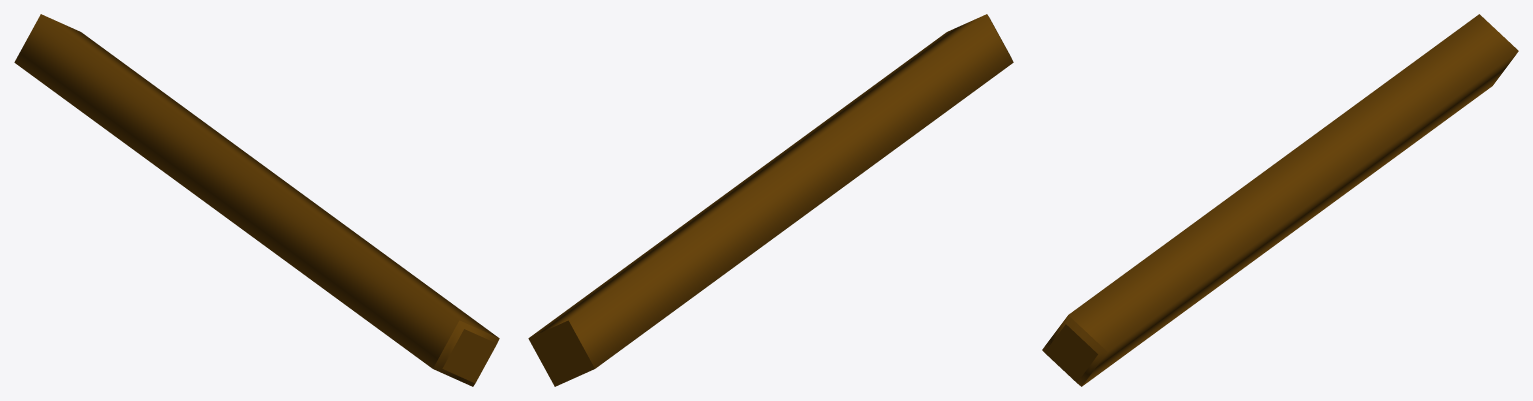
File: Axe inverseur detente.obj
3 views of the same model, side by side, from view 1: azimuth 30°, elevation 25°; view 2: azimuth 150°, elevation 25°; view 3: azimuth 330°, elevation 25° (orthographic).
Parts seen in each view (by area): view 1: Face_1, Face_2, Face_4; view 2: Face_1, Face_3; view 3: Face_1, Face_2, Face_4.
Part boxes in pixels (x1,y1,x2,y2): Face_1: (14, 14, 498, 368); Face_2: (442, 329, 496, 383); Face_4: (433, 320, 499, 386); Face_1: (529, 14, 1013, 368); Face_3: (528, 320, 594, 386); Face_1: (1068, 14, 1518, 386); Face_2: (1044, 324, 1097, 382); Face_4: (1042, 315, 1107, 386).
Bounding box in the file's own units: 0.00245 × 0.00245 × 0.0268.
